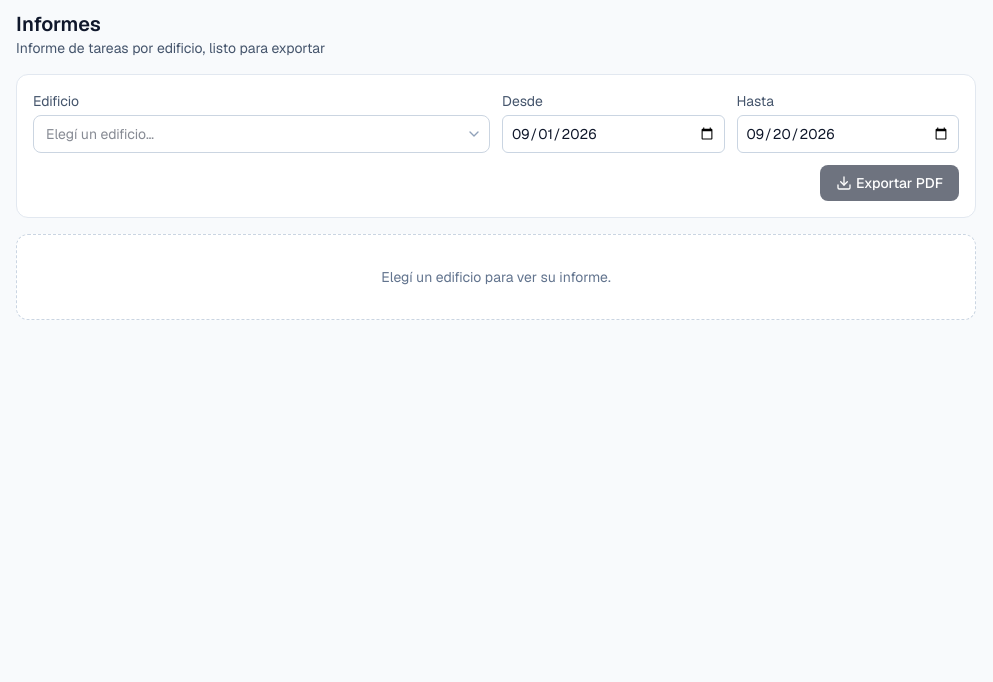
Scenario: InformeEdificio › al elegir un edificio muestra el membrete y las tareas agrupadas
The image size is (993, 682).
Click the dropdown labelled "Edificio" at (262, 134), box [33, 115, 490, 153]
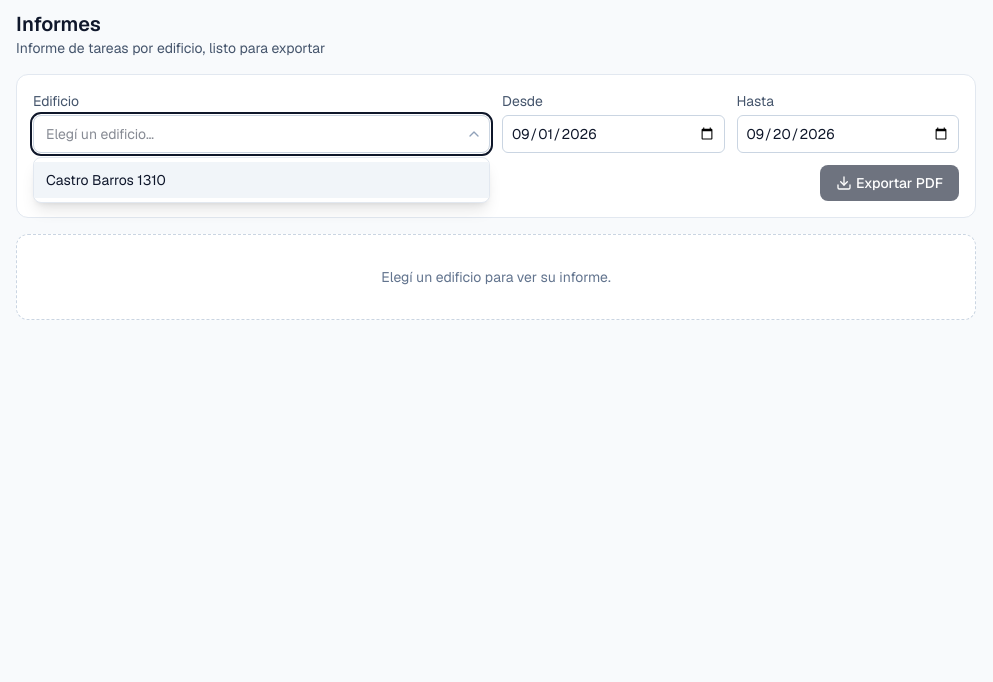
Click the option "Castro Barros 1310" at (106, 180), box [34, 162, 489, 198]
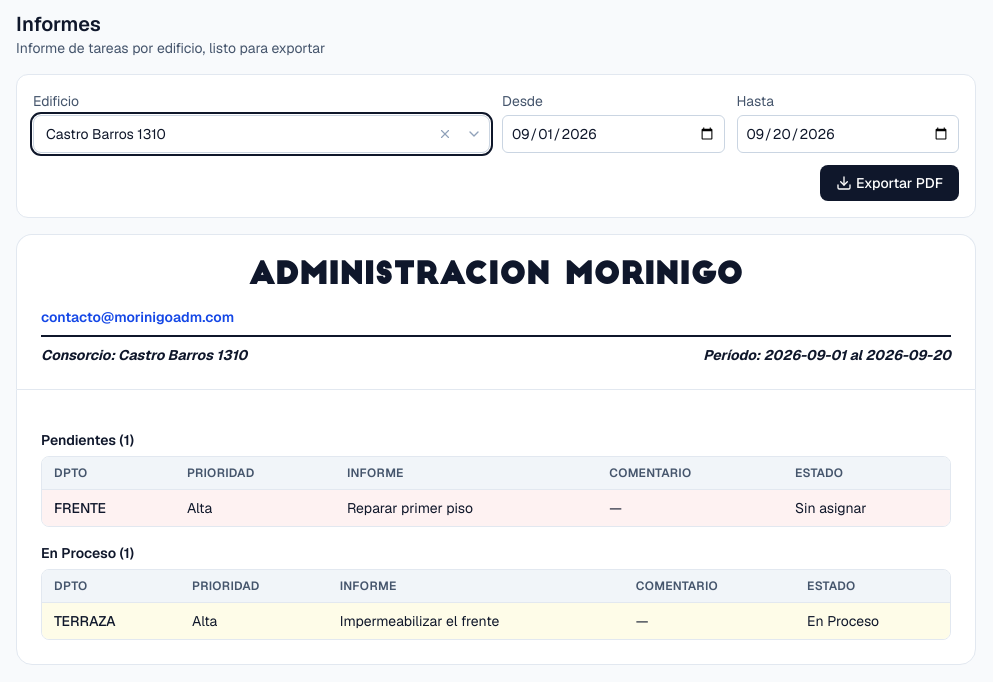
Now the heading "ADMINISTRACION MORINIGO" is shown, box [249, 259, 743, 295]
Now the heading "Pendientes (1)" is shown, box [41, 431, 134, 449]
Now the heading "En Proceso (1)" is shown, box [41, 544, 134, 562]
